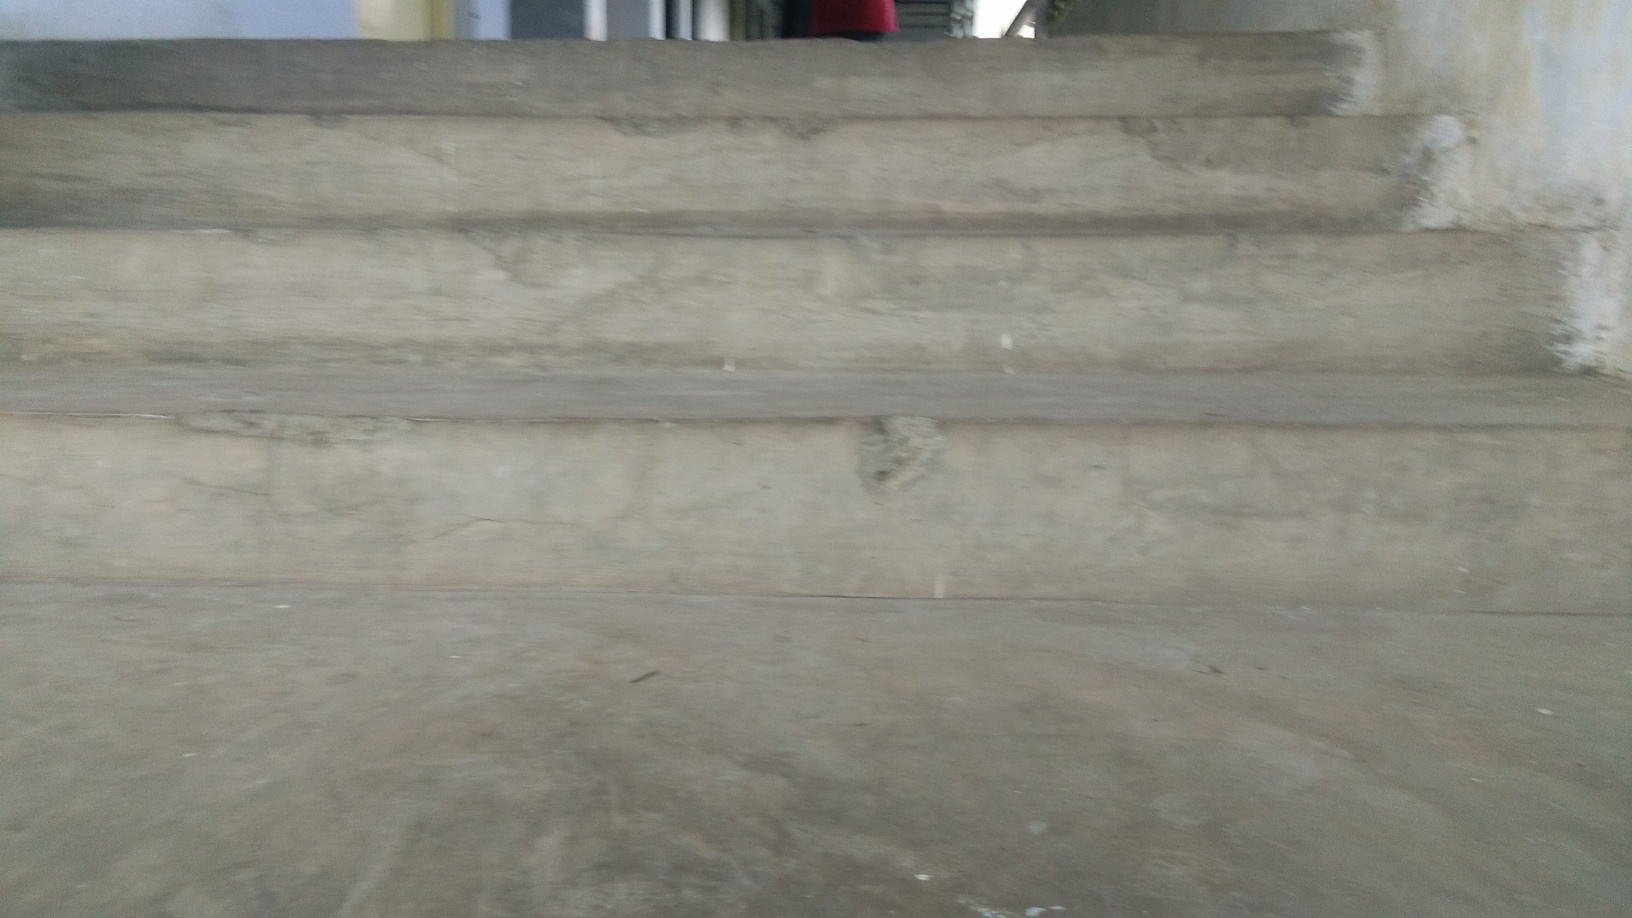stairs_up: (6, 31, 1625, 612)
